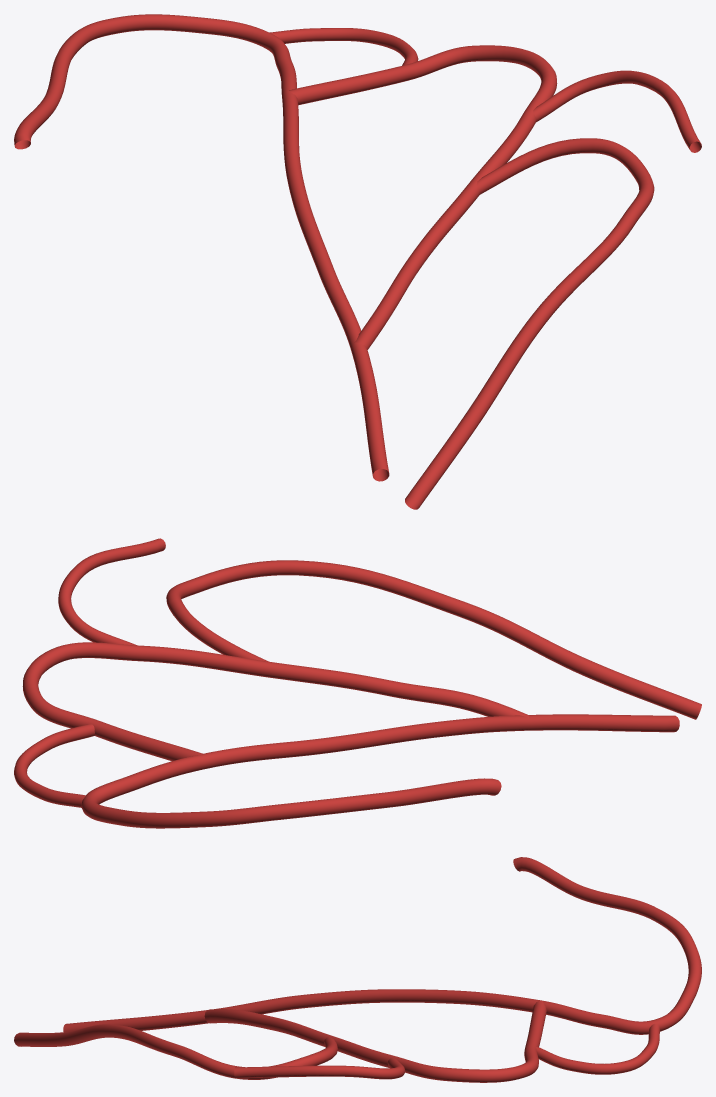
3 views of the same model, one above another, from view 1: azimuth 30°, elevation 25°; view 2: azimuth 150°, elevation 25°; view 3: azimuth 270°, elevation 25° (orthographic). The views are drawn at different scales.
Visible parts, largest first — view 1: 乙状结肠动脉; view 2: 乙状结肠动脉; view 3: 乙状结肠动脉.
Boxes of the visible parts, x1=… form: 乙状结肠动脉: x1=14, y1=14, x2=701, y2=509; 乙状结肠动脉: x1=14, y1=538, x2=701, y2=828; 乙状结肠动脉: x1=14, y1=857, x2=701, y2=1082.
Bounding box in the file's own units: 0.0973 × 0.0323 × 0.1286.
